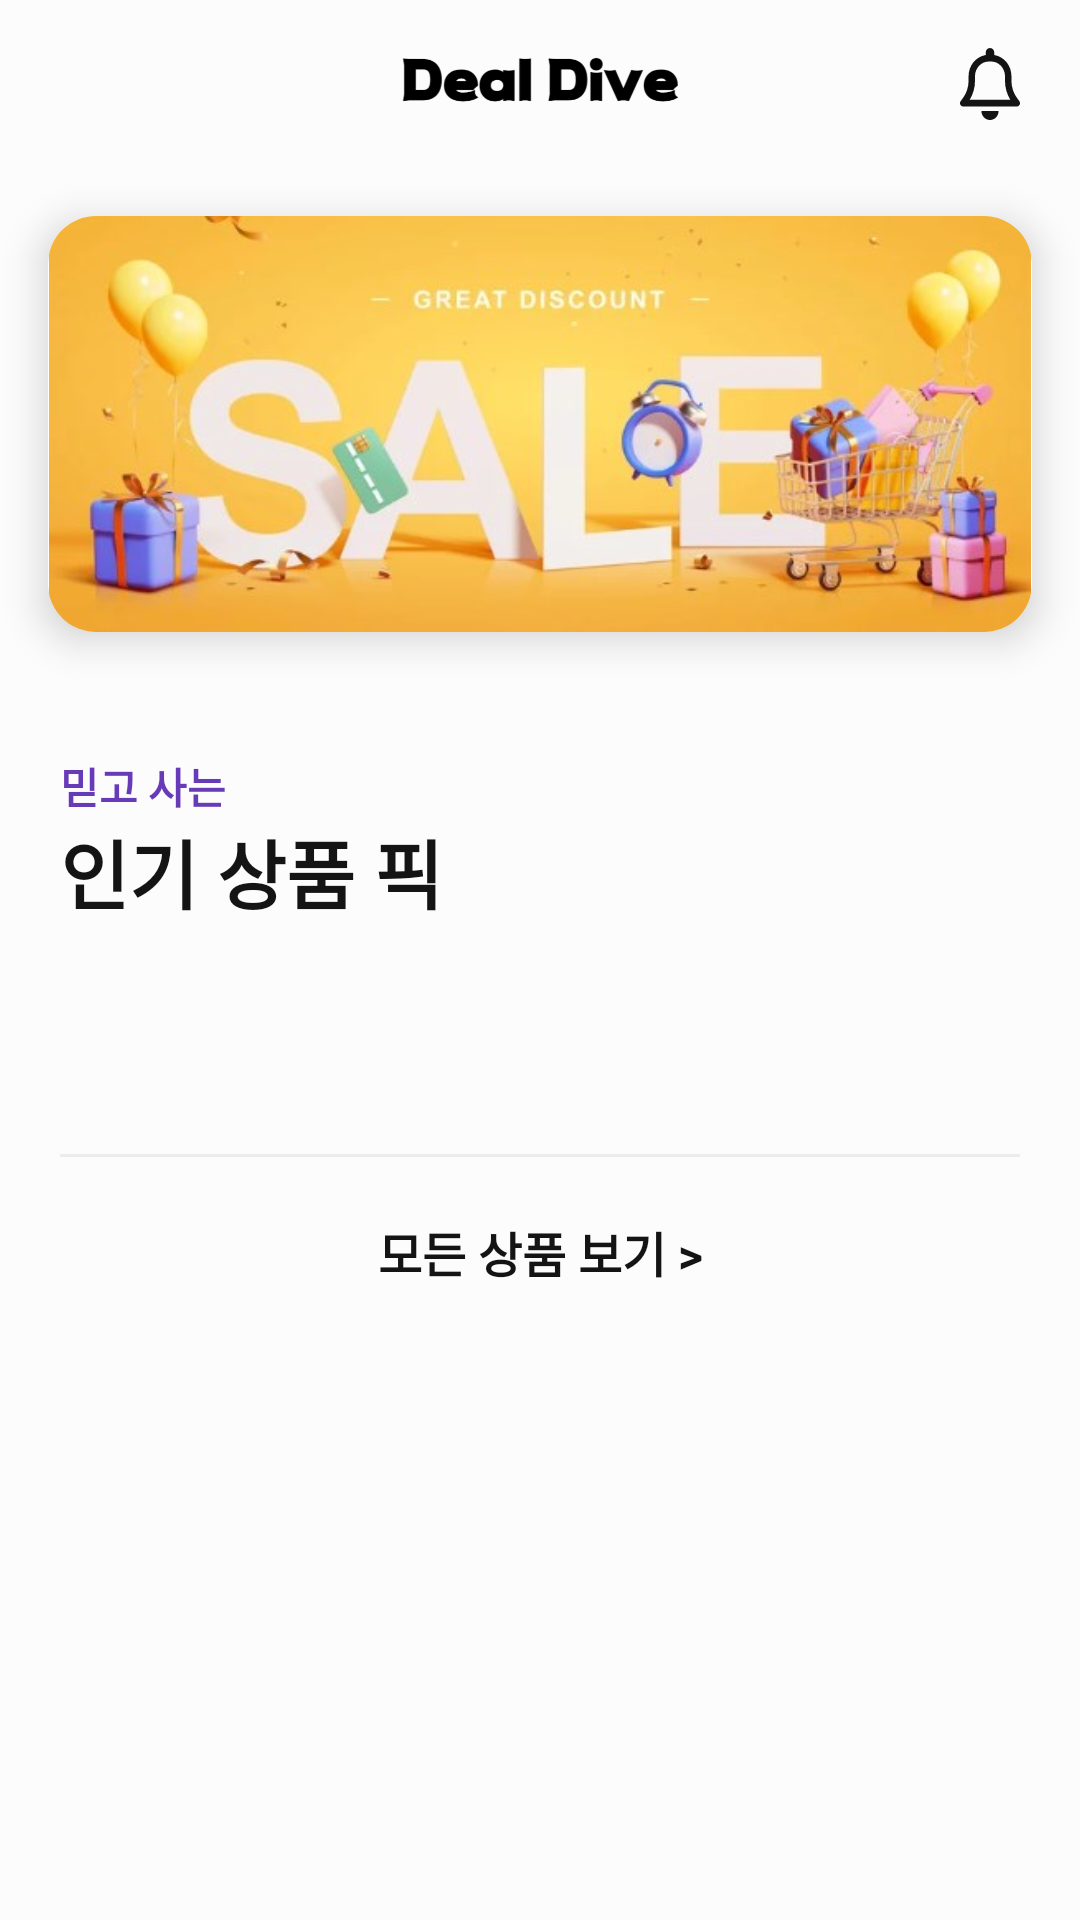

Icons on this 1080 x 1920 Android screen, each with its box as (x1, y1, x2, y2):
bell: (960, 48, 1020, 120)
